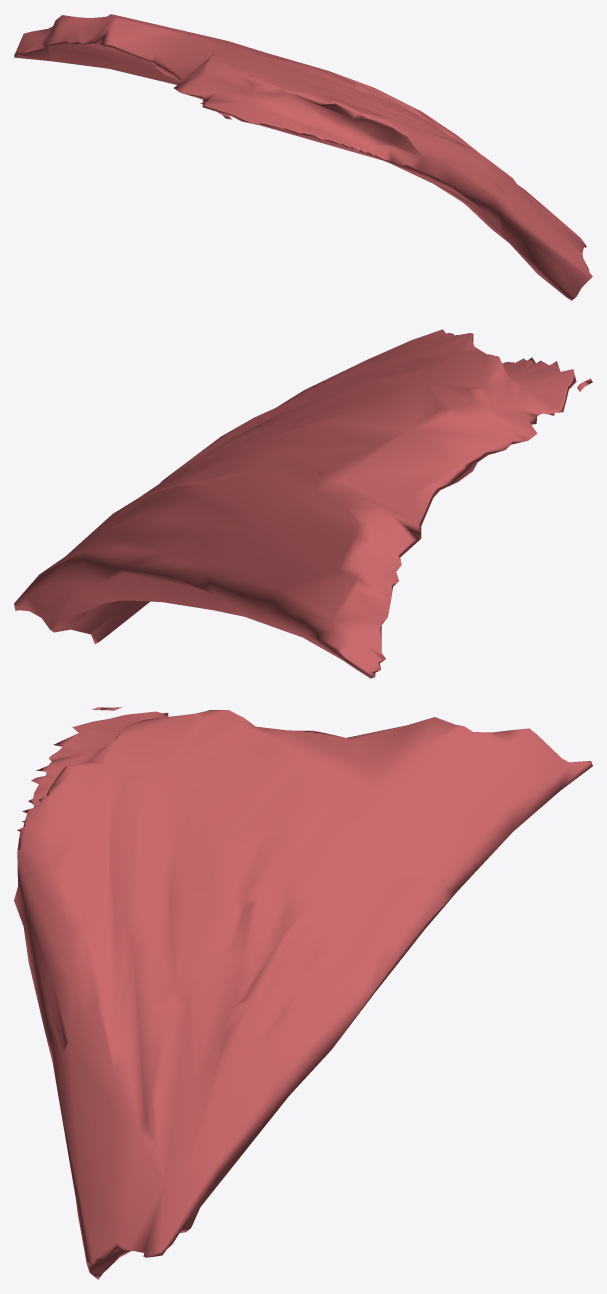
3 views of the same model, one above another, from view 1: azimuth 30°, elevation 25°; view 2: azimuth 150°, elevation 25°; view 3: azimuth 270°, elevation 25° (orthographic). The views are drawn at different scales.
Visible parts, largest first — view 1: 左侧尾骨肌; view 2: 左侧尾骨肌; view 3: 左侧尾骨肌.
Part boxes in pixels (x1,y1,x2,y2): 左侧尾骨肌: (14,14,592,300); 左侧尾骨肌: (14,329,592,678); 左侧尾骨肌: (14,707,592,1279).
Bounding box in the file's own units: 0.0653 × 0.0426 × 0.0604.
